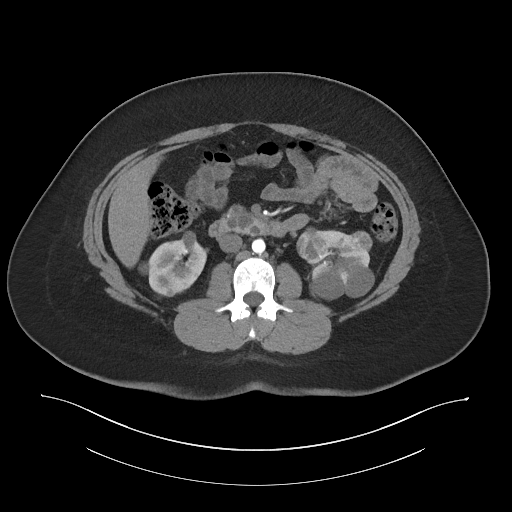Lesion: (294, 229, 330, 267)
